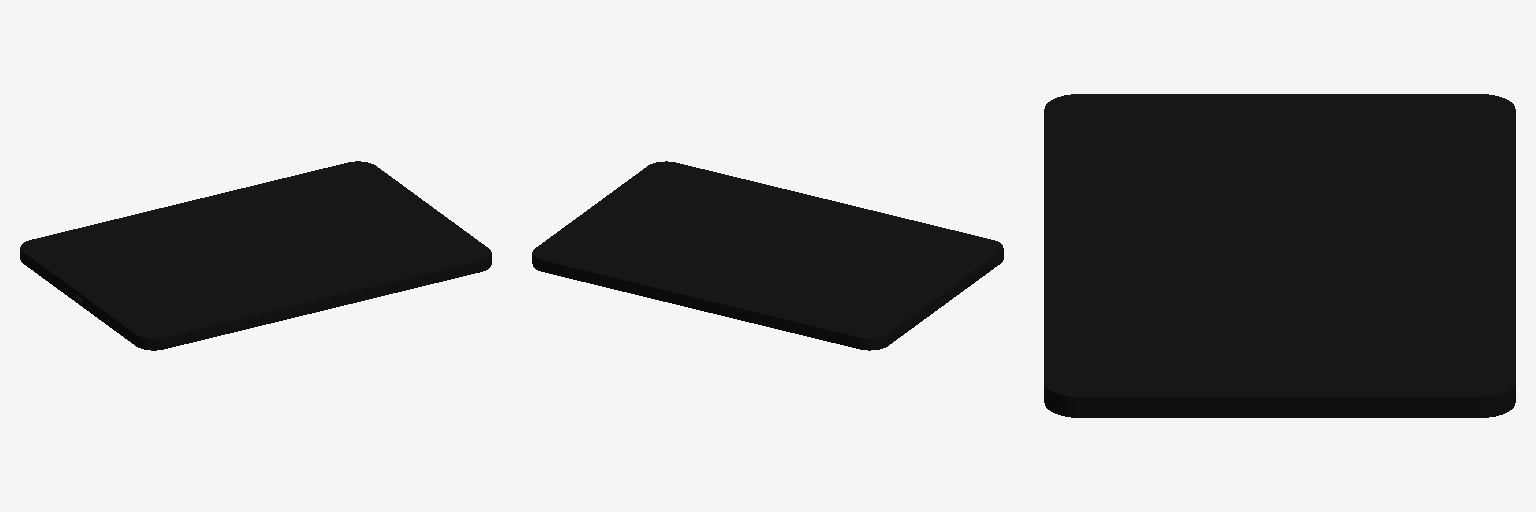
URDF robot description (tablet):
<?xml version="1.0"?>
<!--
  tablet.urdf
  바탕화면 Tablet.step → 변환. 단일 바디(링크 1개).
  - 원본 STEP 단위 mm → 메쉬 좌표 자체를 m로 스케일 (scale="1 1 1")
  - 원점: 바닥면 중심 (x:-0.1178~0.1178, y:-0.0772~0.0772, z:0~0.0094)
  - 치수 0.2357 x 0.1545 x 0.0094 m (삼각형 300면)
  - 시각(visual): 원본 메쉬. 충돌(collision): 박스로 단순화(치수=메쉬 바운딩박스)
  - 기본은 정적 소품(테이블 위 거치 등)으로 fix_base_link=True 권장.
    그리퍼로 집어 옮기는 대상으로 쓰려면 스폰 시 False로 바꿀 것.
-->
<robot name="tablet">

  <material name="tablet_dark"> <color rgba="0.10 0.10 0.11 1.0"/> </material>

  <link name="base_link">
    <inertial>
      <origin xyz="0 0 0.0047"/>
      <mass value="0.5"/>
      <!-- 박스 관성 (m=0.5, 0.2357x0.1545x0.0094) -->
      <inertia ixx="0.000998" ixy="0" ixz="0" iyy="0.002318" iyz="0" izz="0.003309"/>
    </inertial>

    <visual>
      <origin xyz="0 0 0"/>
      <geometry><mesh filename="meshes/tablet.stl" scale="1 1 1"/></geometry>
      <material name="tablet_dark"/>
    </visual>

    <collision>
      <origin xyz="0 0 0.0047"/>
      <geometry><box size="0.2357 0.1545 0.0094"/></geometry>
    </collision>
  </link>
</robot>

--- Render facts (derived) ---
3 views of the same robot in one strip: view 1: azimuth 30°, elevation 25°; view 2: azimuth 150°, elevation 25°; view 3: azimuth 270°, elevation 25° (orthographic).
Model tablet with 1 links and 0 joints (none), rooted at base_link, posed all joints at 0.
Links seen in each view (by area): view 1: base_link; view 2: base_link; view 3: base_link.
Link boxes in pixels (left/top/right/bottom): base_link: left=20, top=161, right=491, bottom=350; base_link: left=532, top=161, right=1003, bottom=350; base_link: left=1044, top=94, right=1515, bottom=417.
Bounding box of the posed robot: 0.2357 × 0.1545 × 0.0094 m (x, y, z).
1 mesh visuals loaded from 1 distinct referenced files (1 binary STL).
